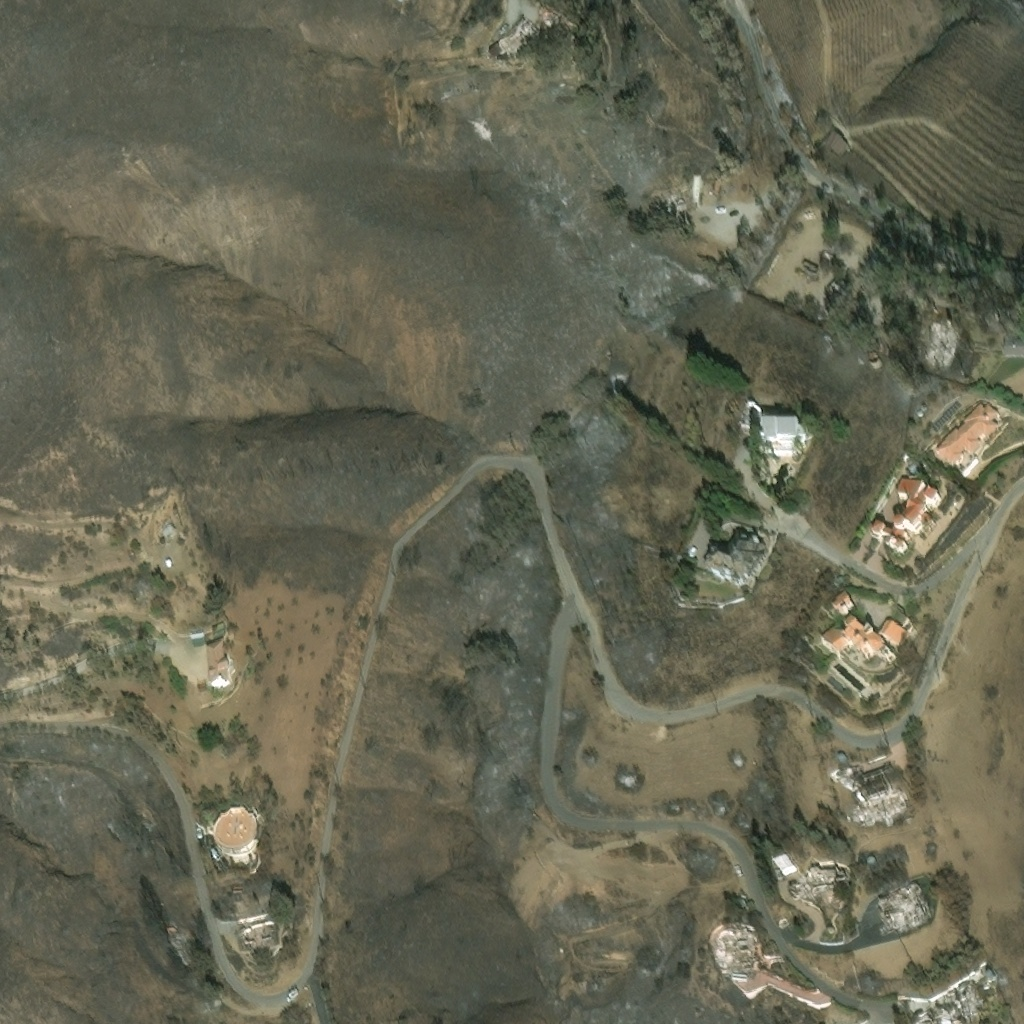0 no-damage: (870, 477, 941, 556), (934, 404, 1001, 469), (700, 524, 766, 588), (820, 618, 889, 660), (213, 811, 262, 858), (204, 640, 235, 688), (761, 420, 809, 449), (737, 401, 763, 437), (825, 276, 857, 305), (649, 190, 685, 215), (877, 619, 908, 648), (826, 591, 856, 616), (1003, 338, 1023, 358), (161, 525, 176, 540), (985, 973, 996, 983), (165, 561, 173, 570)
3 destroyed: (874, 880, 927, 932), (488, 14, 541, 64), (713, 923, 759, 975), (787, 862, 850, 898), (235, 913, 283, 955), (855, 783, 905, 822), (532, 6, 579, 42), (842, 762, 895, 788), (924, 324, 959, 362), (924, 1003, 962, 1023), (954, 983, 975, 1010)
